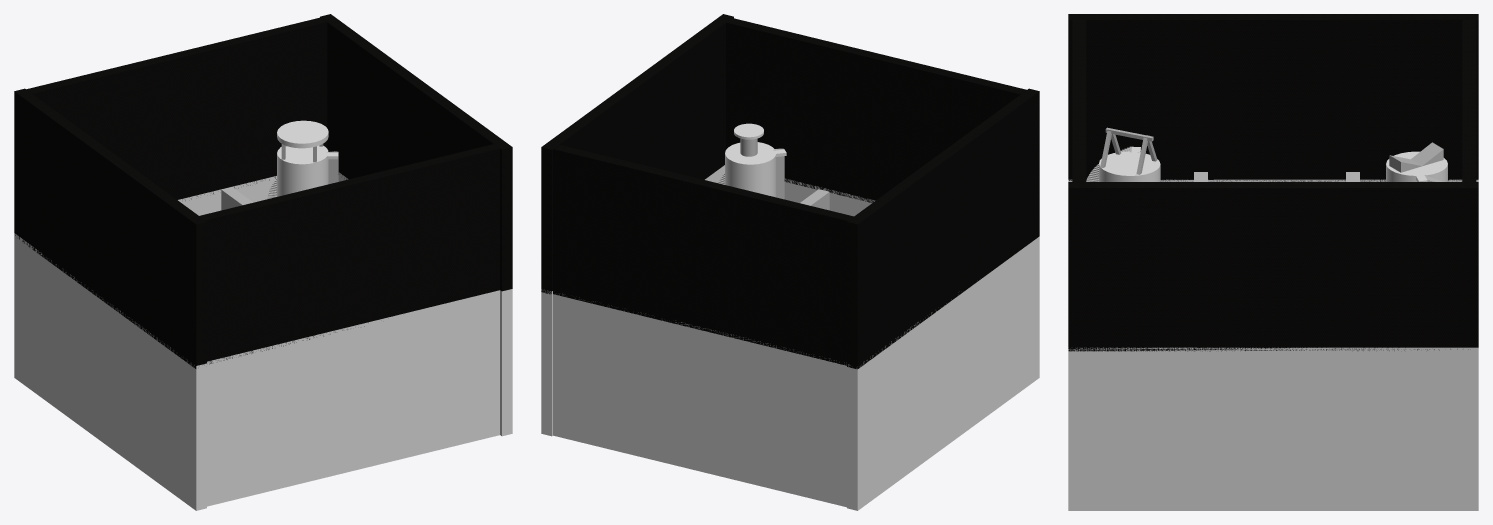
Rendered from texture.gltf.
3 renders of one model, left to right at view 1: azimuth 30°, elevation 25°; view 2: azimuth 150°, elevation 25°; view 3: azimuth 270°, elevation 25°, orthographic. The views are drawn at different scales.
Visible parts, largest first — view 1: Cube__13_001, Cube__13_, Cube__14_001, Cube__15_001, Cube__15_, Cube__16_001, Cylinder__3_, Cube__16_, Cube__14_, Cylinder__4_; view 2: Cube__14_001, Cube__14_, Cube__13_001, Cube__15_001, Cube__15_, Cube__16_001, Cylinder__2_, Cube__16_, Cube__13_; view 3: Cube__16_001, Cube__16_, Cube__15_001, Cube__13_001, Cube__14_001, Cylinder, Cylinder__1_, Cube__15_, Cube__40_.
Boxes of the visible parts, bbox=[...] form: Cube__13_001: bbox=[189, 144, 499, 364]; Cube__13_: bbox=[207, 290, 499, 506]; Cube__14_001: bbox=[26, 17, 327, 200]; Cube__15_001: bbox=[14, 88, 206, 368]; Cube__15_: bbox=[14, 233, 206, 510]; Cube__16_001: bbox=[320, 14, 512, 291]; Cylinder__3_: bbox=[277, 145, 328, 196]; Cube__16_: bbox=[338, 172, 512, 436]; Cube__14_: bbox=[178, 176, 276, 215]; Cylinder__4_: bbox=[277, 120, 328, 148]; Cube__14_001: bbox=[553, 144, 855, 365]; Cube__14_: bbox=[553, 293, 846, 507]; Cube__13_001: bbox=[722, 16, 1026, 202]; Cube__15_001: bbox=[847, 88, 1039, 369]; Cube__15_: bbox=[847, 236, 1039, 510]; Cube__16_001: bbox=[541, 14, 733, 294]; Cylinder__2_: bbox=[725, 142, 776, 197]; Cube__16_: bbox=[541, 165, 724, 436]; Cube__13_: bbox=[784, 178, 875, 216]; Cube__16_001: bbox=[1068, 182, 1478, 351]; Cube__16_: bbox=[1068, 347, 1478, 510]; Cube__15_001: bbox=[1068, 14, 1478, 181]; Cube__13_001: bbox=[1072, 20, 1086, 181]; Cube__14_001: bbox=[1462, 20, 1476, 181]; Cylinder: bbox=[1099, 151, 1160, 181]; Cylinder__1_: bbox=[1386, 151, 1447, 181]; Cube__15_: bbox=[1068, 179, 1478, 181]; Cube__40_: bbox=[1411, 142, 1443, 165].
Bounding box in the file's own units: 106 × 91.71 × 106.
5 materials, 2 textured.
